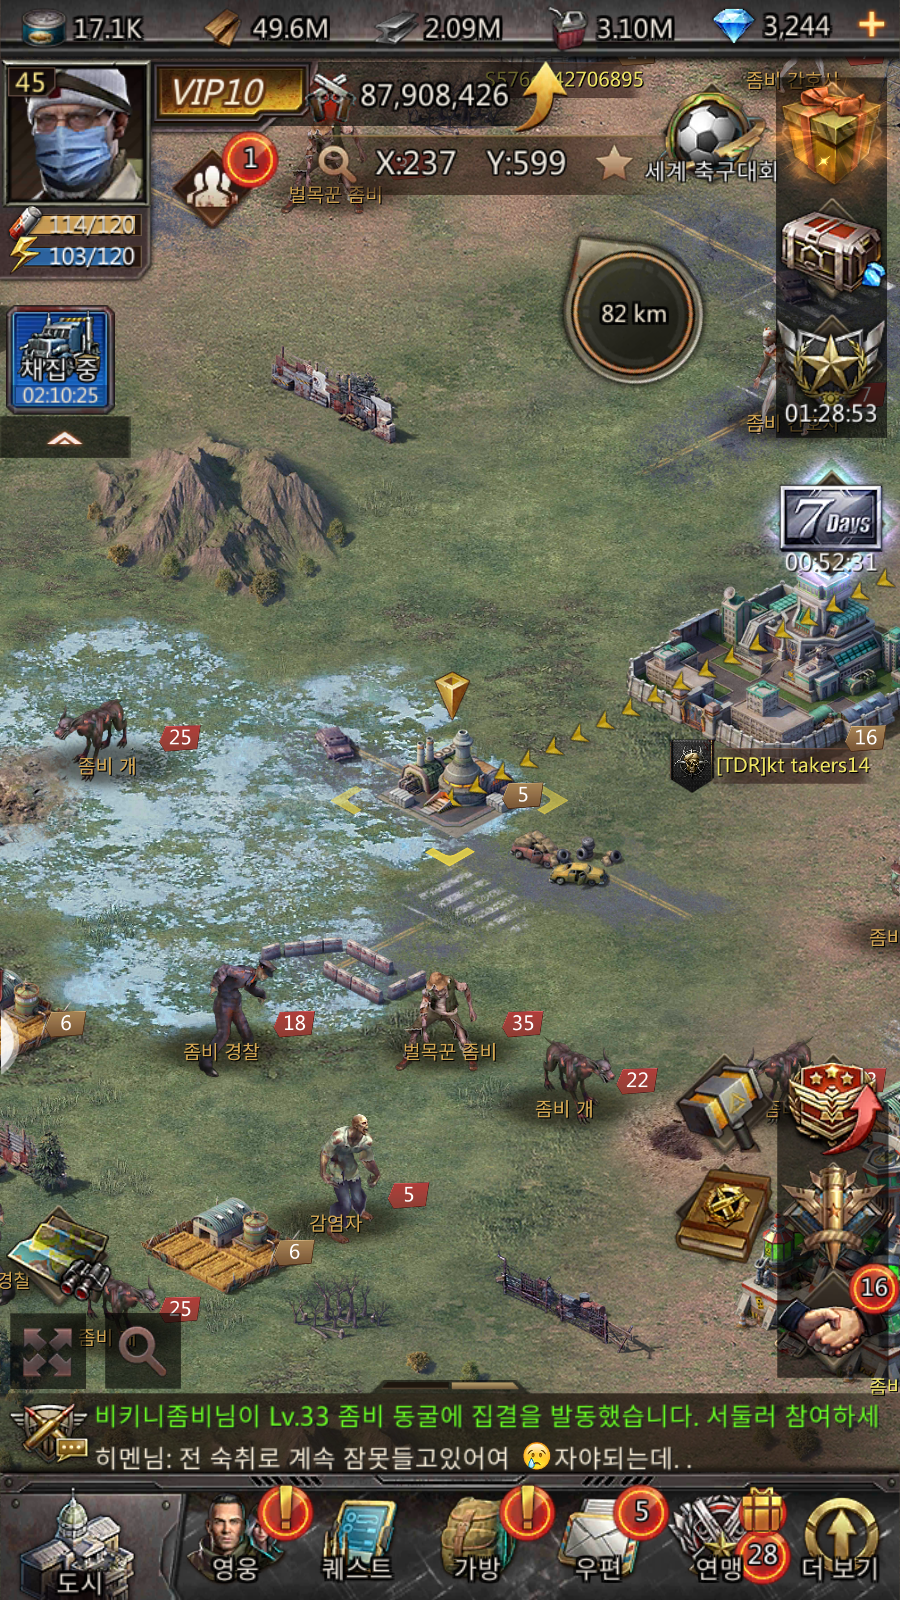city: (9, 1476, 178, 1600)
occupied_steel: (307, 649, 585, 878)
open_panel: (96, 1293, 200, 1411)
troops_cnt_1: (162, 115, 291, 253)
